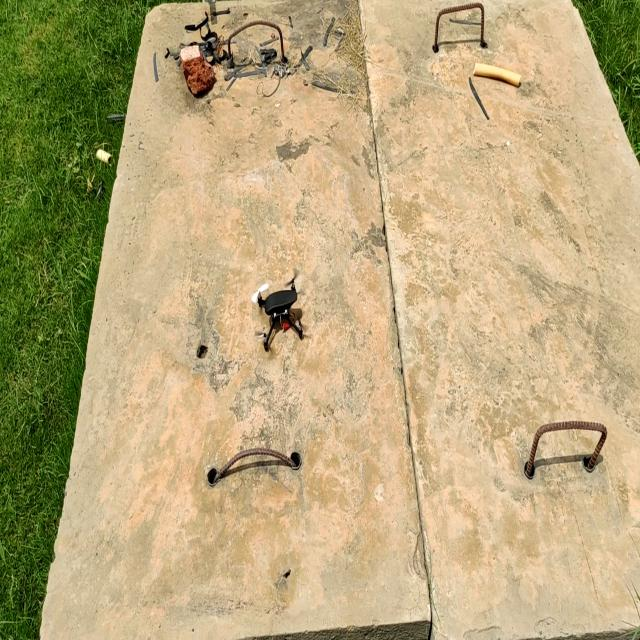drone: (236, 272, 323, 352)
